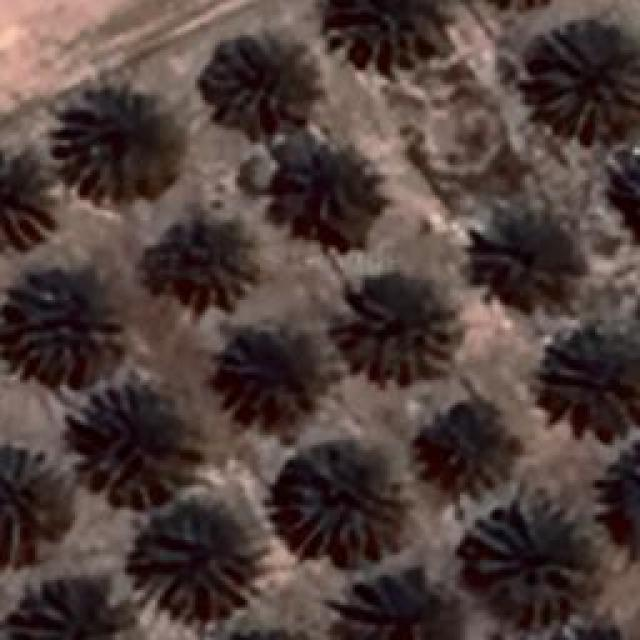PalmTree: (278, 438, 408, 560), (72, 385, 198, 510), (49, 82, 172, 202), (466, 499, 589, 619), (130, 510, 250, 622), (198, 32, 320, 140), (5, 267, 113, 385), (338, 280, 460, 382), (271, 142, 384, 250), (522, 30, 636, 135), (140, 214, 252, 314), (328, 570, 466, 640), (467, 218, 575, 306), (225, 330, 325, 425), (326, 0, 454, 68), (547, 334, 640, 427), (0, 451, 65, 569), (420, 408, 512, 488), (10, 580, 140, 635), (0, 134, 50, 254), (595, 435, 640, 563), (594, 148, 640, 238)
